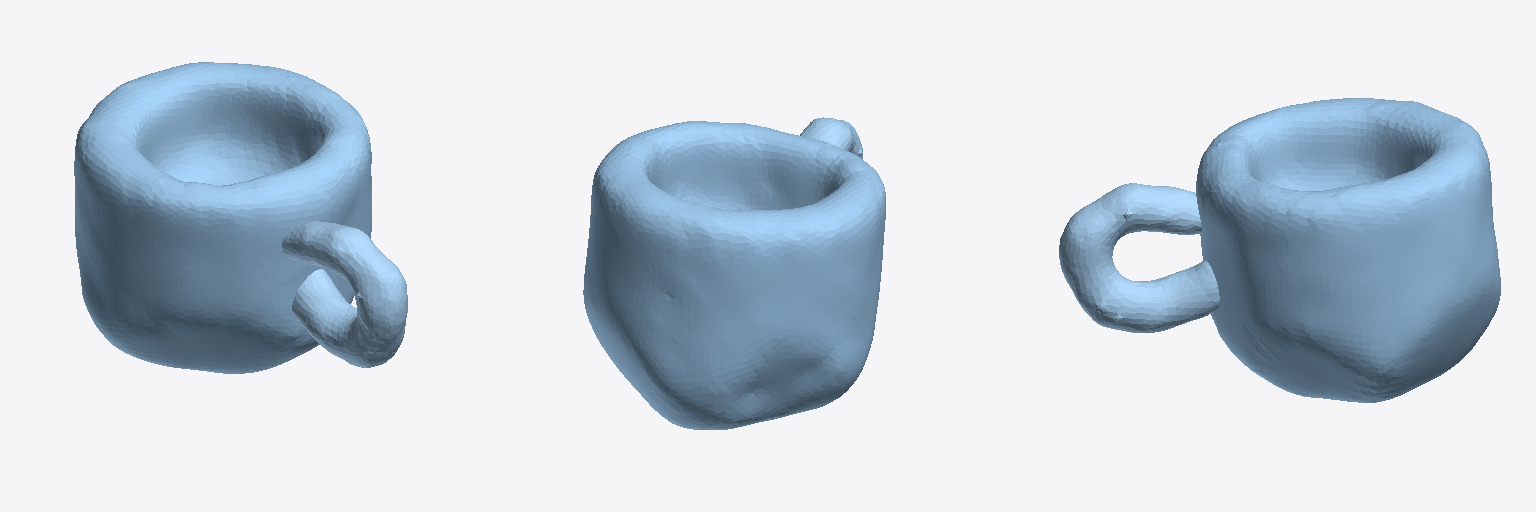
Rendered from cup2.obj.
3 renders of one model, left to right at view 1: azimuth 30°, elevation 25°; view 2: azimuth 150°, elevation 25°; view 3: azimuth 270°, elevation 25°, orthographic.
Bounding box in the file's own units: 0.5543 × 0.4888 × 0.821.